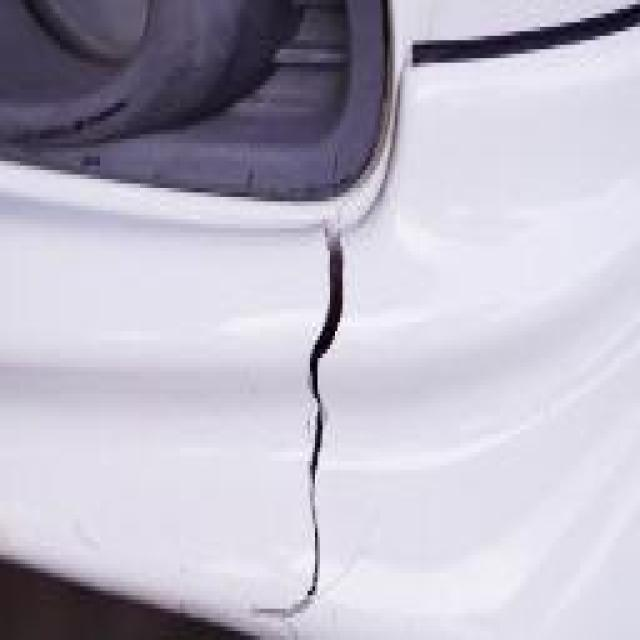Bumper: (235, 210, 380, 622)
